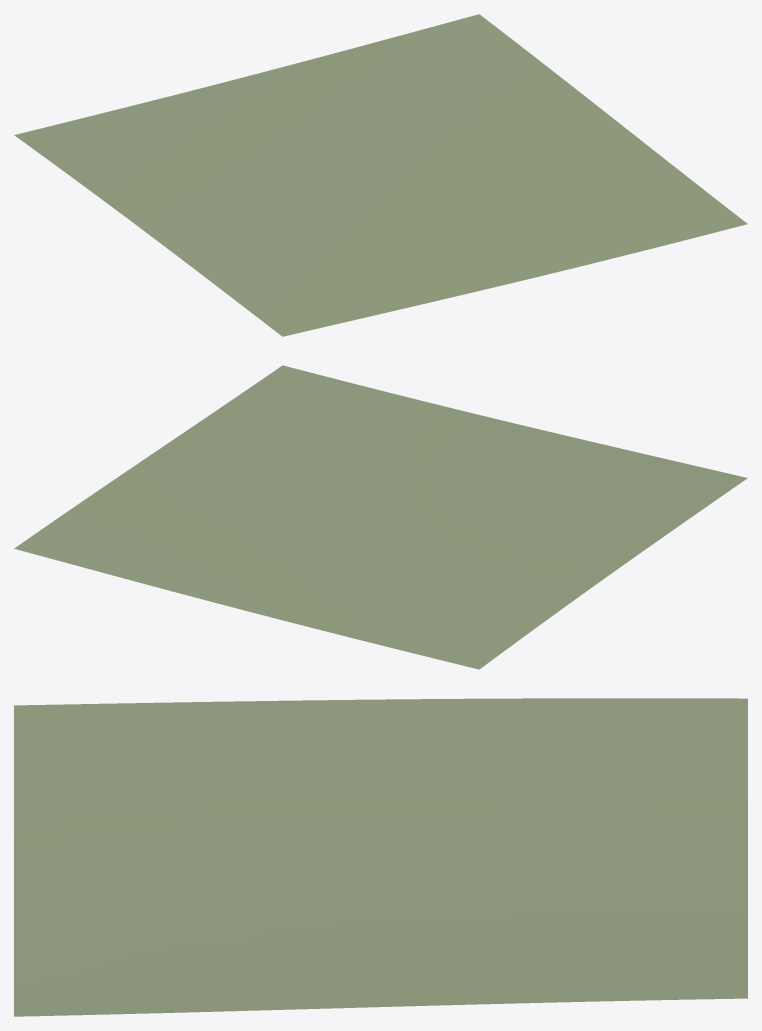
Rendered from expanse-2-31.glb.
3 views of the same model, one above another, from view 1: azimuth 30°, elevation 25°; view 2: azimuth 150°, elevation 25°; view 3: azimuth 270°, elevation 25° (orthographic). The views are drawn at different scales.
Visible parts, largest first — view 1: expanse-2-31; view 2: expanse-2-31; view 3: expanse-2-31.
Boxes of the visible parts, bbox=[...] form: expanse-2-31: bbox=[14, 14, 747, 336]; expanse-2-31: bbox=[14, 365, 747, 669]; expanse-2-31: bbox=[14, 698, 747, 1016].
Bounding box in the file's own units: 256 × 7.82 × 256.
